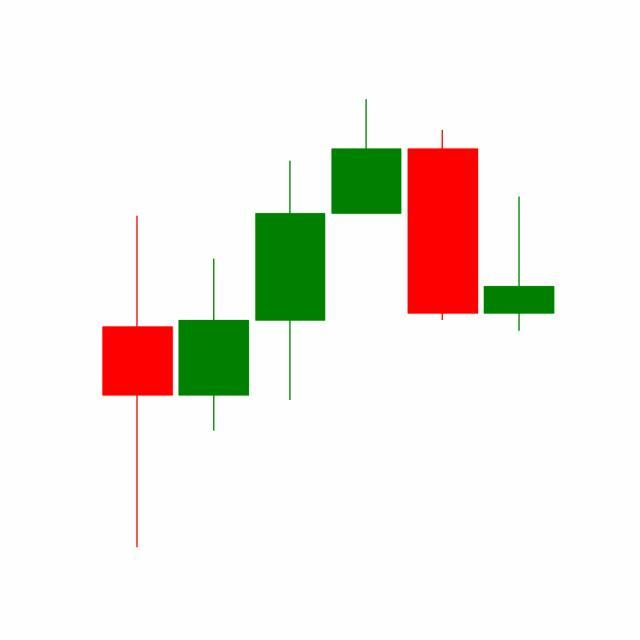Marubozu: (404, 128, 482, 323)
